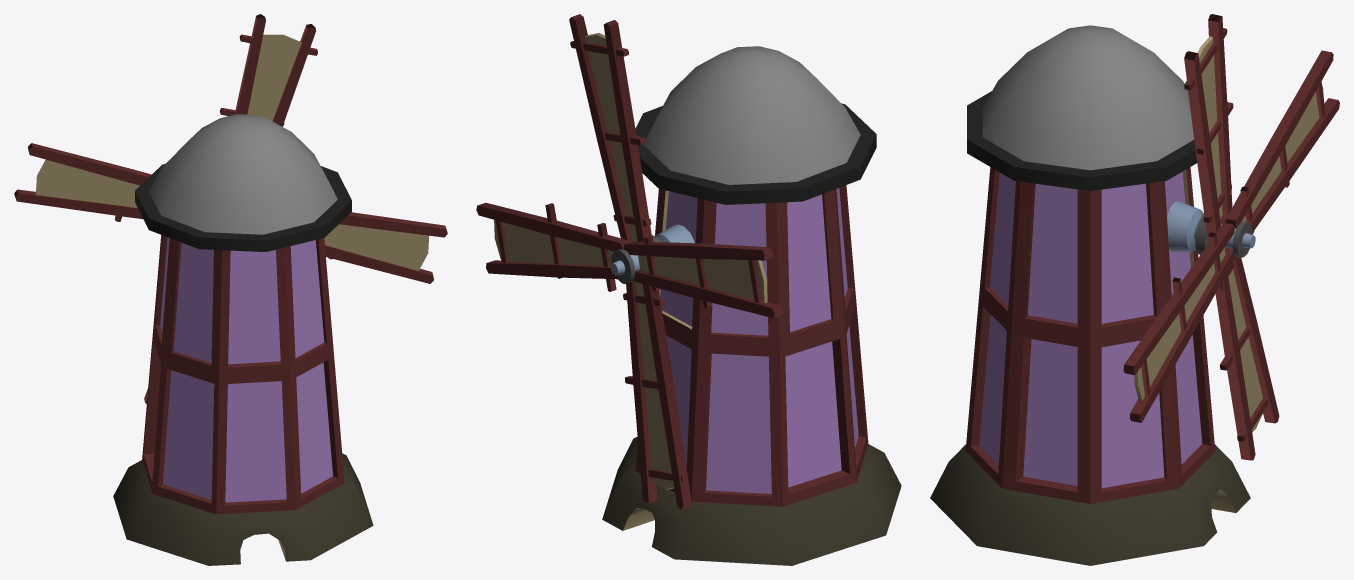
File: WindMill.fbx
3 renders of one model, left to right at view 1: azimuth 30°, elevation 25°; view 2: azimuth 150°, elevation 25°; view 3: azimuth 270°, elevation 25°, orthographic. The views are drawn at different scales.
Parts seen in each view (by area): view 1: Rotor, Wings; view 2: Rotor, Wings; view 3: Rotor, Wings.
Boxes of the visible parts, x1,y1,x2,y2 form: Rotor: (113, 114, 373, 565); Wings: (14, 14, 447, 403); Rotor: (602, 46, 901, 565); Wings: (476, 14, 782, 509); Rotor: (930, 25, 1255, 565); Wings: (1123, 14, 1339, 460).
Bounding box in the file's own units: 451 × 542 × 385.
